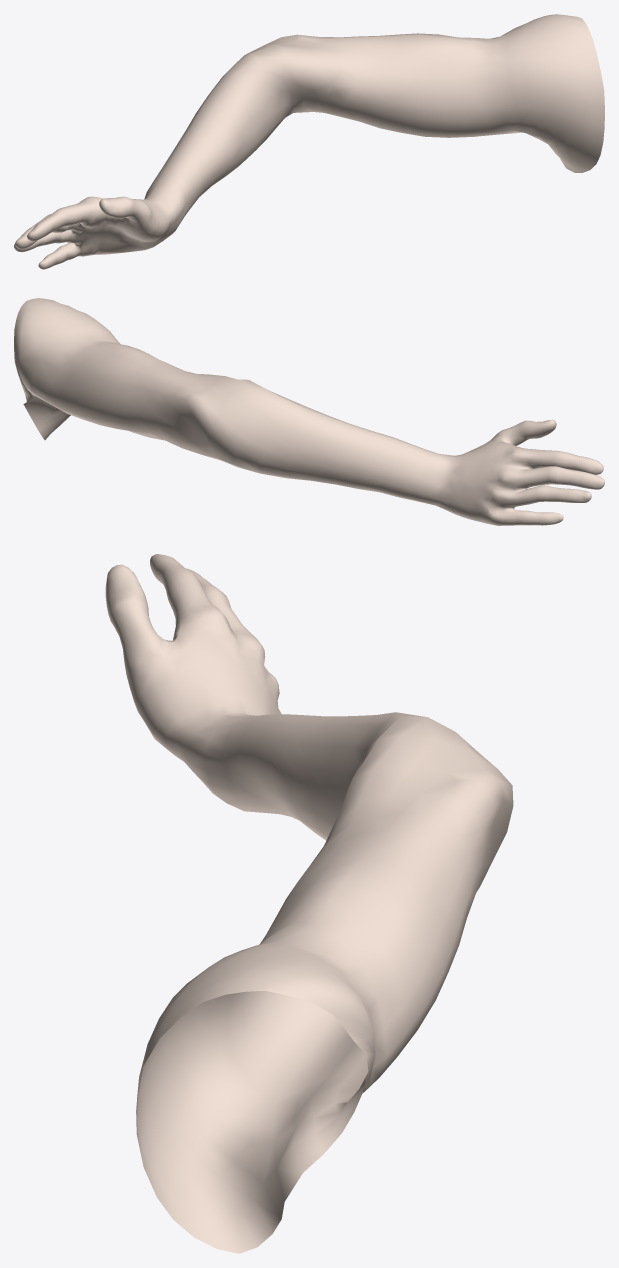
The model's file is hand.fbx.
The picture shows the model from 3 angles, top to bottom: view 1: azimuth 30°, elevation 25°; view 2: azimuth 150°, elevation 25°; view 3: azimuth 270°, elevation 25°; orthographic projection. The views are drawn at different scales.
Parts seen in each view (by area): view 1: Ch47_Body1; view 2: Ch47_Body1; view 3: Ch47_Body1.
Part boxes in pixels (<box>): Ch47_Body1: <box>14,14,604,269</box>; Ch47_Body1: <box>14,298,604,525</box>; Ch47_Body1: <box>105,554,513,1253</box>.
Bounding box in the file's own units: 62.03 × 15.37 × 19.64.
